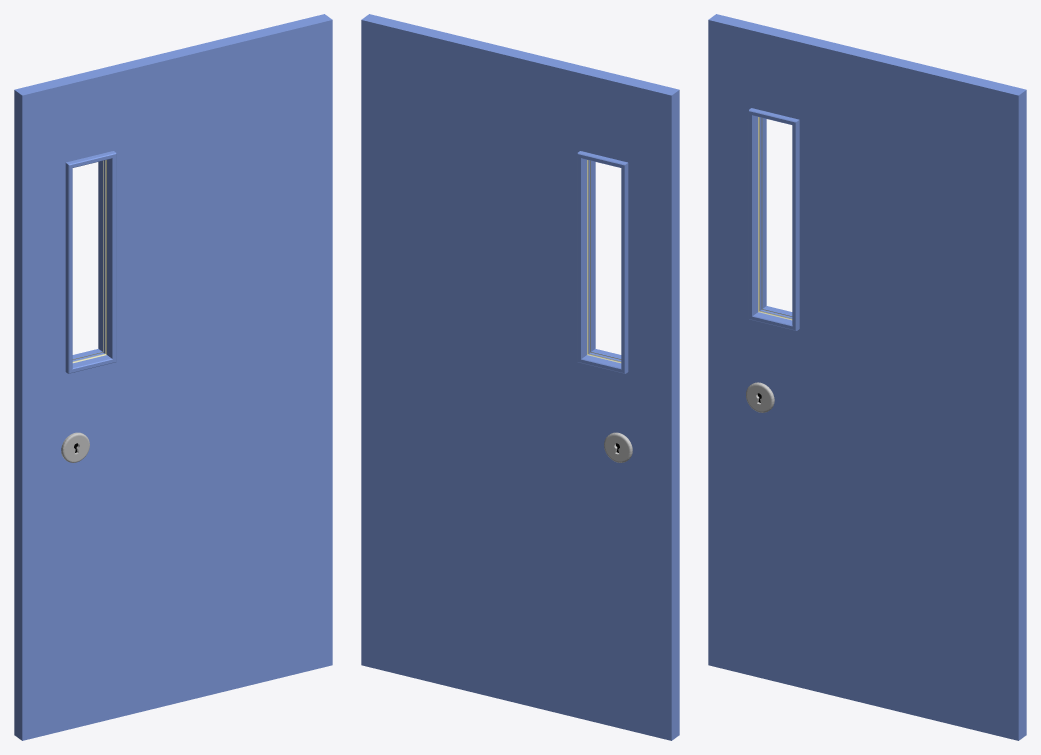
Rendered from DoorScalec.fbx.
3 views of the same model, side by side, from view 1: azimuth 30°, elevation 25°; view 2: azimuth 150°, elevation 25°; view 3: azimuth 330°, elevation 25° (orthographic).
Parts seen in each view (by area): view 1: Door Lock; view 2: Door Lock; view 3: Door Lock.
Boxes of the visible parts, x1,y1,x2,y2 form: Door Lock: [14, 14, 332, 740]; Door Lock: [361, 14, 679, 740]; Door Lock: [708, 14, 1026, 740].
Bounding box in the file's own units: 155 × 307 × 12.34.
